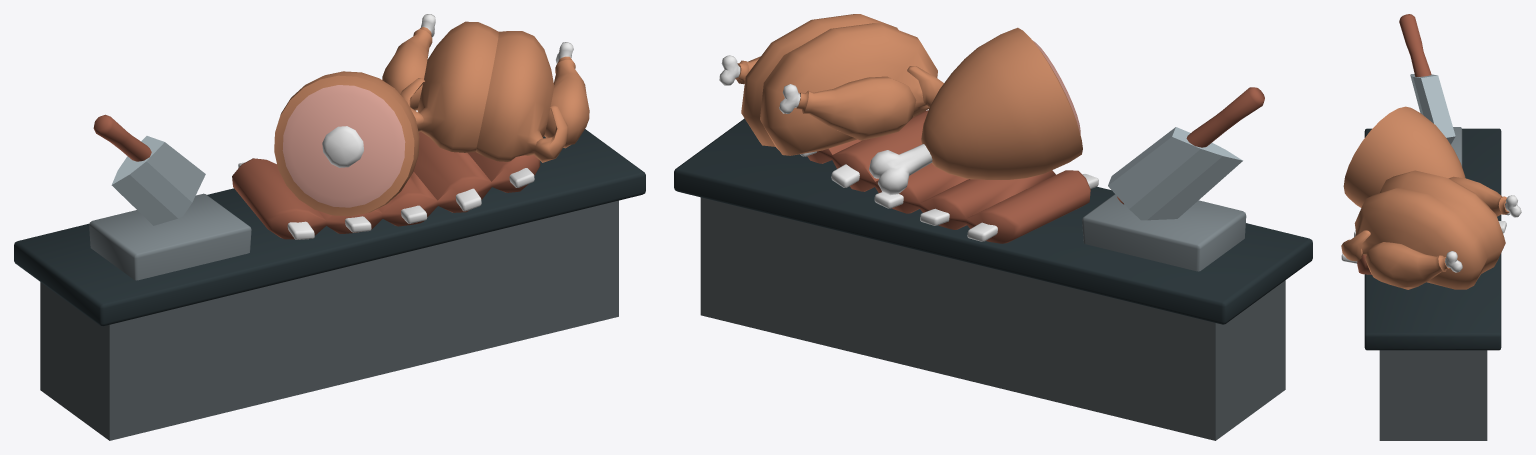
File: butchertable.gltf.glb
3 views of the same model, side by side, from view 1: azimuth 30°, elevation 25°; view 2: azimuth 150°, elevation 25°; view 3: azimuth 270°, elevation 25° (orthographic). The views are drawn at different scales.
Visible parts, largest first — view 1: butchertable; view 2: butchertable; view 3: butchertable.
Part boxes in pixels (x1,y1,x2,y2): butchertable: (14, 14, 645, 440); butchertable: (674, 14, 1312, 440); butchertable: (1341, 14, 1521, 440).
Size of the model in its own units: 2.54 by 1.37 by 0.9377.
